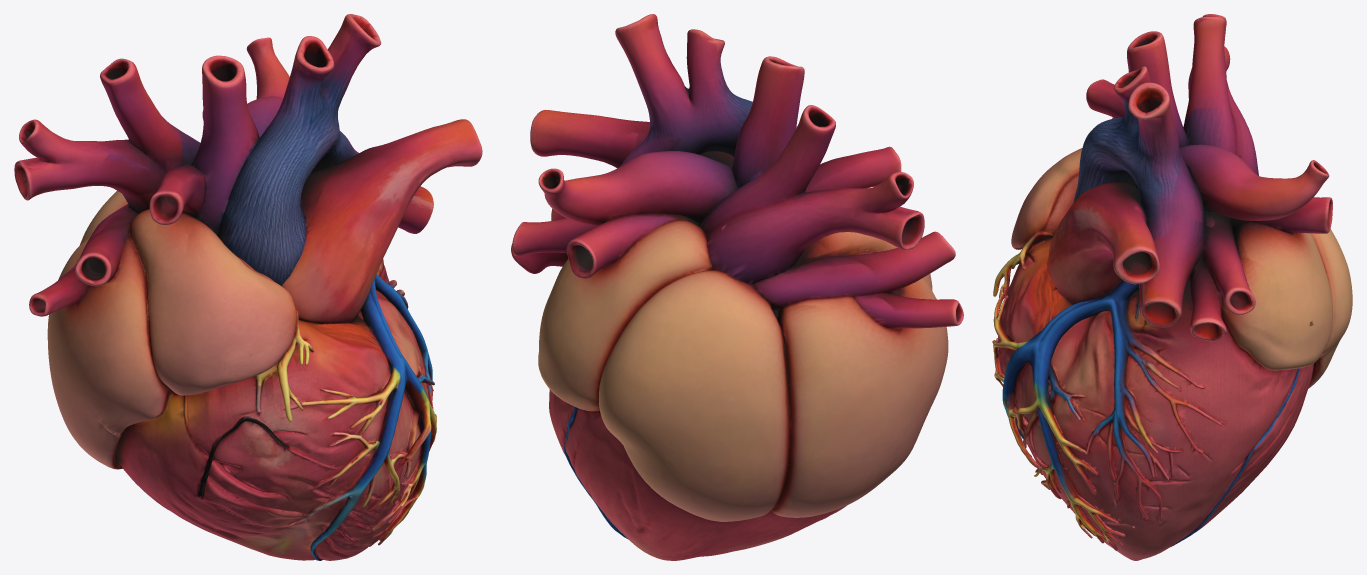
Rendered from heart-v3.glb.
3 renders of one model, left to right at view 1: azimuth 30°, elevation 25°; view 2: azimuth 150°, elevation 25°; view 3: azimuth 270°, elevation 25°, orthographic. The views are drawn at different scales.
Visible parts, largest first — view 1: tripo_node_32242de7-80ca-4f61-a74b-b38bd9ad4dcc; view 2: tripo_node_32242de7-80ca-4f61-a74b-b38bd9ad4dcc; view 3: tripo_node_32242de7-80ca-4f61-a74b-b38bd9ad4dcc.
Part boxes in pixels (bbox=[...]): tripo_node_32242de7-80ca-4f61-a74b-b38bd9ad4dcc: bbox=[14, 14, 482, 560]; tripo_node_32242de7-80ca-4f61-a74b-b38bd9ad4dcc: bbox=[511, 14, 963, 560]; tripo_node_32242de7-80ca-4f61-a74b-b38bd9ad4dcc: bbox=[992, 14, 1352, 560].
Bounding box in the file's own units: 0.8465 × 0.9999 × 0.6811.
1 material, 1 textured.
